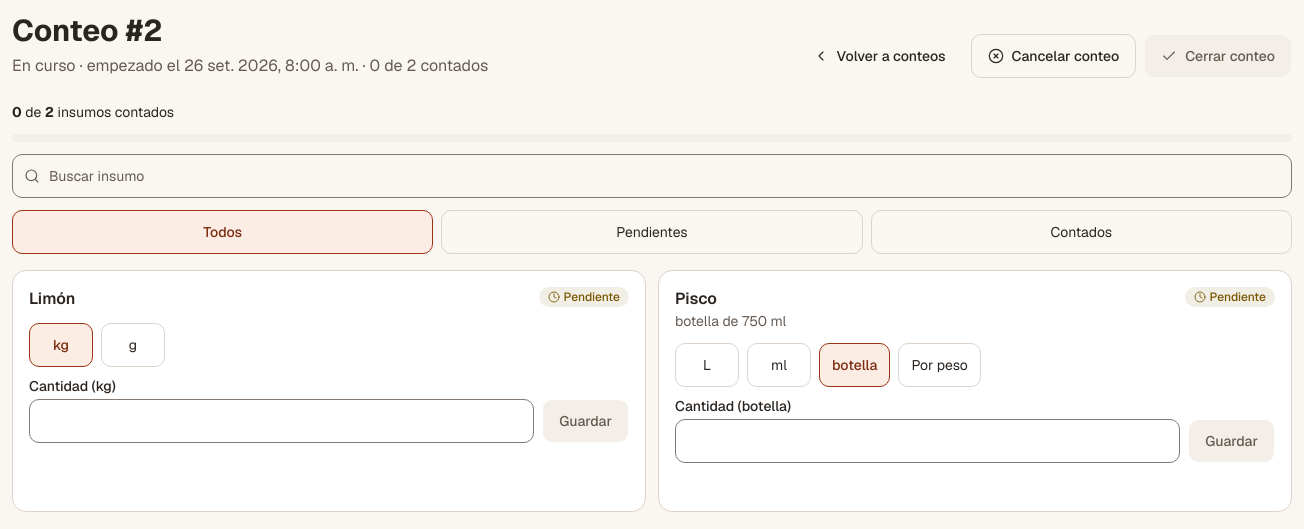
contar › por peso pide el abierto y los cerrados, y avisa si pesa como vacío
The width and height of the screenshot is (1304, 529).
Click the radio button labelled "Por peso". click: {"x": 940, "y": 364}
box: x1=898 y1=342 x2=981 y2=386
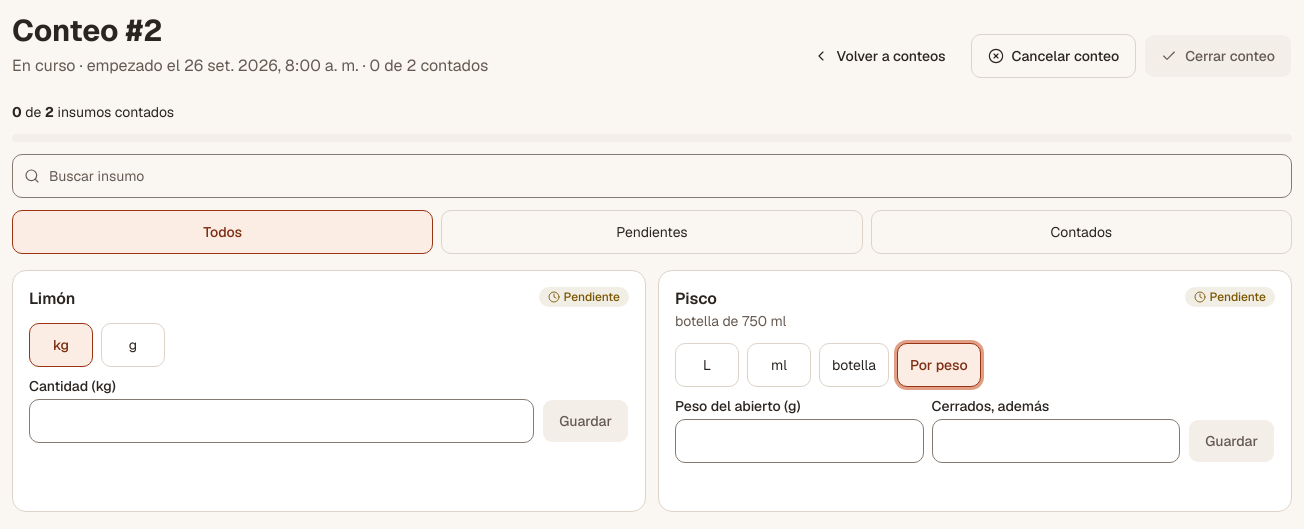
Type "450" into the field labelled "Peso del abierto (g)". click: {"x": 799, "y": 440}
box: x1=675 y1=418 x2=924 y2=462
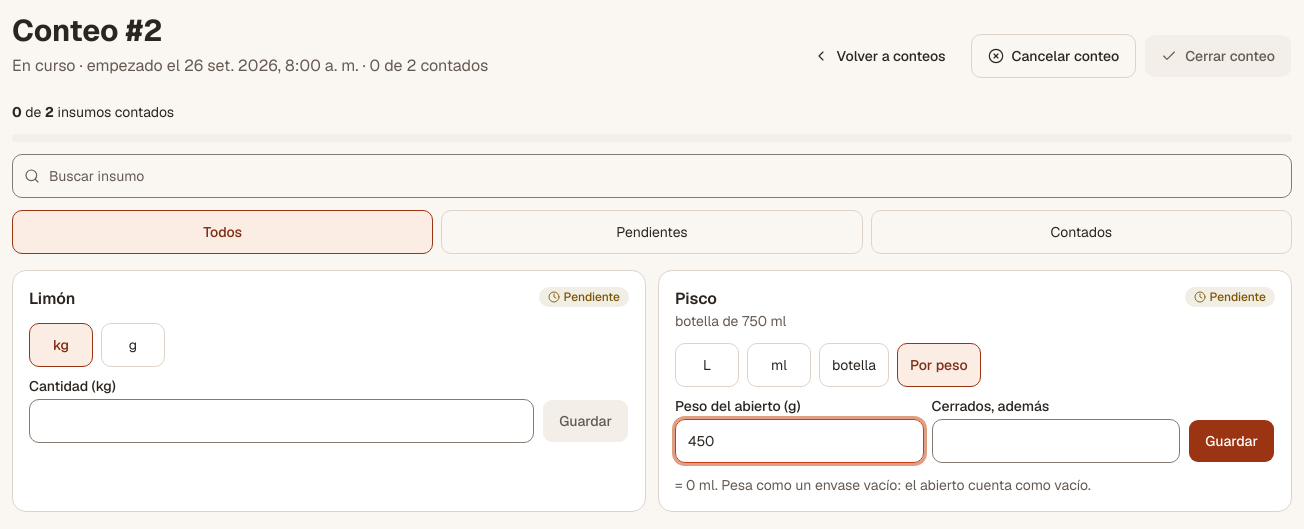
Type "2" into the field labelled "Cerrados, además". click: {"x": 1056, "y": 440}
box: x1=932 y1=418 x2=1180 y2=462
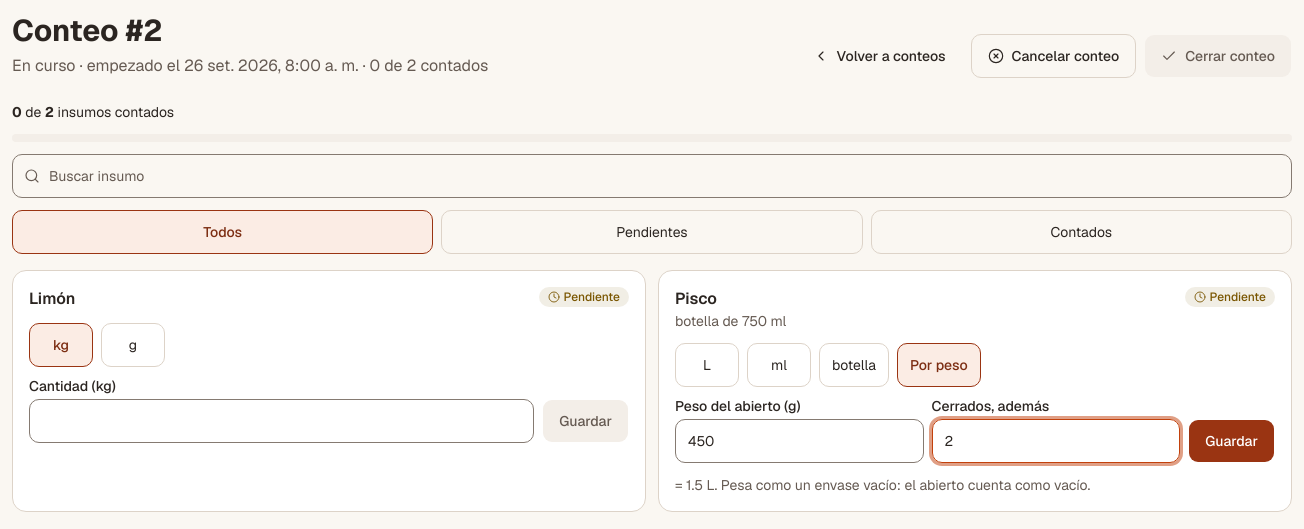
Now the text "cuenta como vacío" shows "= 1.5 L", box x1=675 y1=476 x2=1090 y2=494
